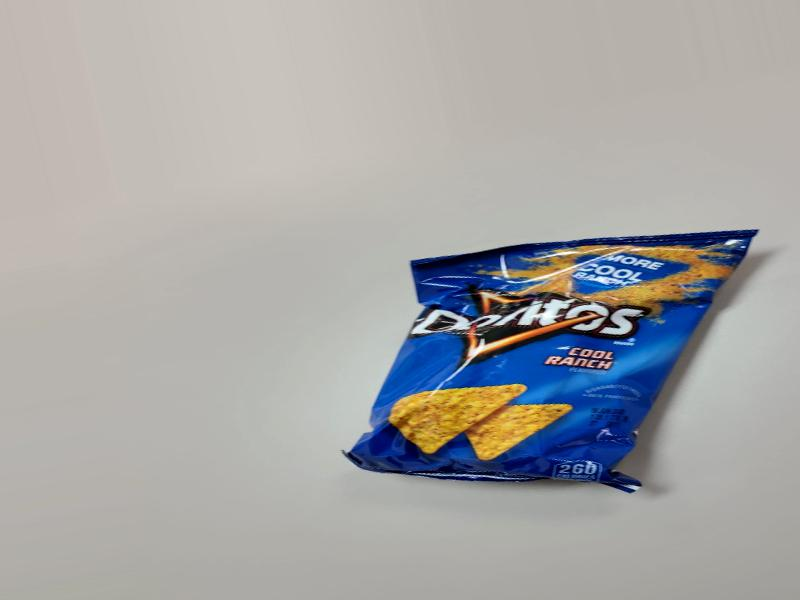doritos: (344, 239, 734, 492)
